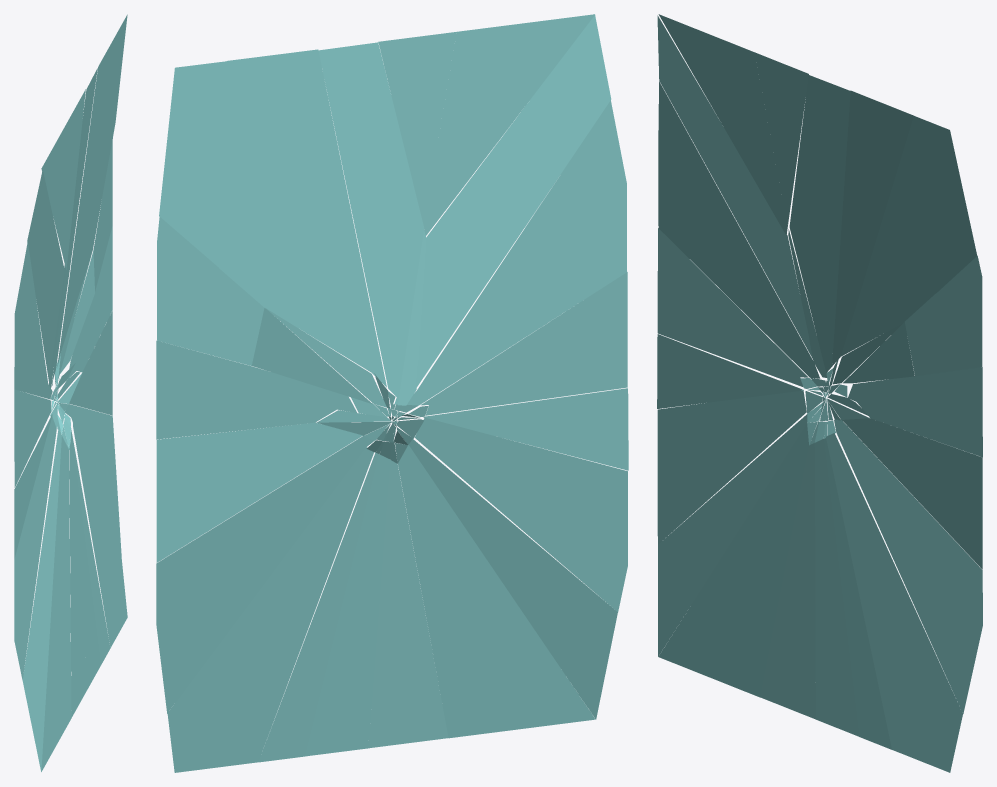
The model's file is glass_shatter_1.fbx.
3 views of the same model, side by side, from view 1: azimuth 30°, elevation 25°; view 2: azimuth 150°, elevation 25°; view 3: azimuth 270°, elevation 25° (orthographic). The views are drawn at different scales.
Parts seen in each view (by area): view 1: polySurface16; view 2: polySurface16; view 3: polySurface16.
Part boxes in pixels (x1=…): polySurface16: x1=14, y1=14, x2=127, y2=771; polySurface16: x1=156, y1=14, x2=628, y2=772; polySurface16: x1=657, y1=14, x2=982, y2=772.
Size of the model in its own units: 2.05 by 4.7 by 2.16.
